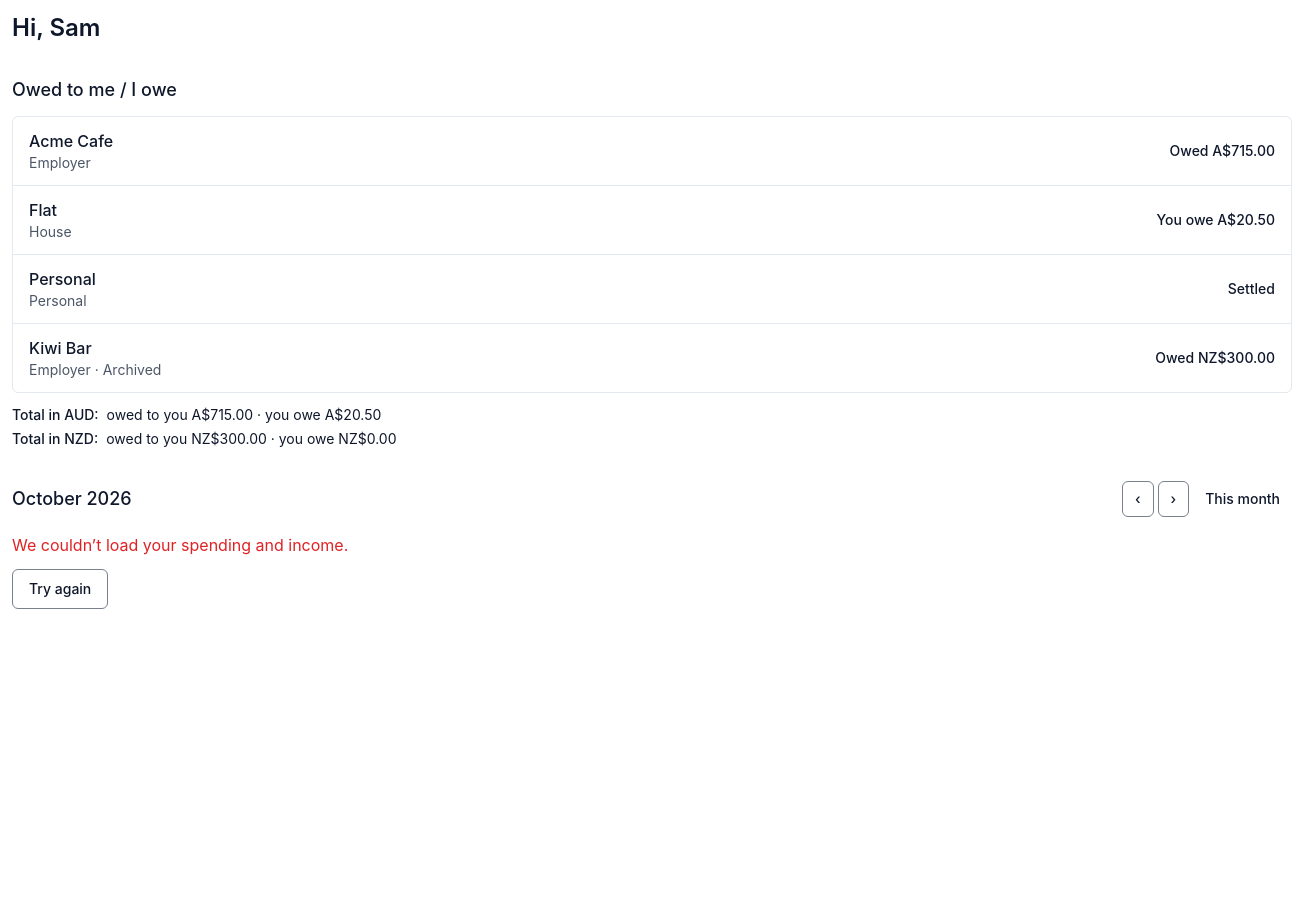
Test: DashboardPage: this month › asks to try again when the shares can’t be read
expect the text "We couldn’t load your spending and income." is shown: met, box [12, 533, 348, 557]
Click the button "Try again" at [60, 589], box [12, 569, 108, 609]
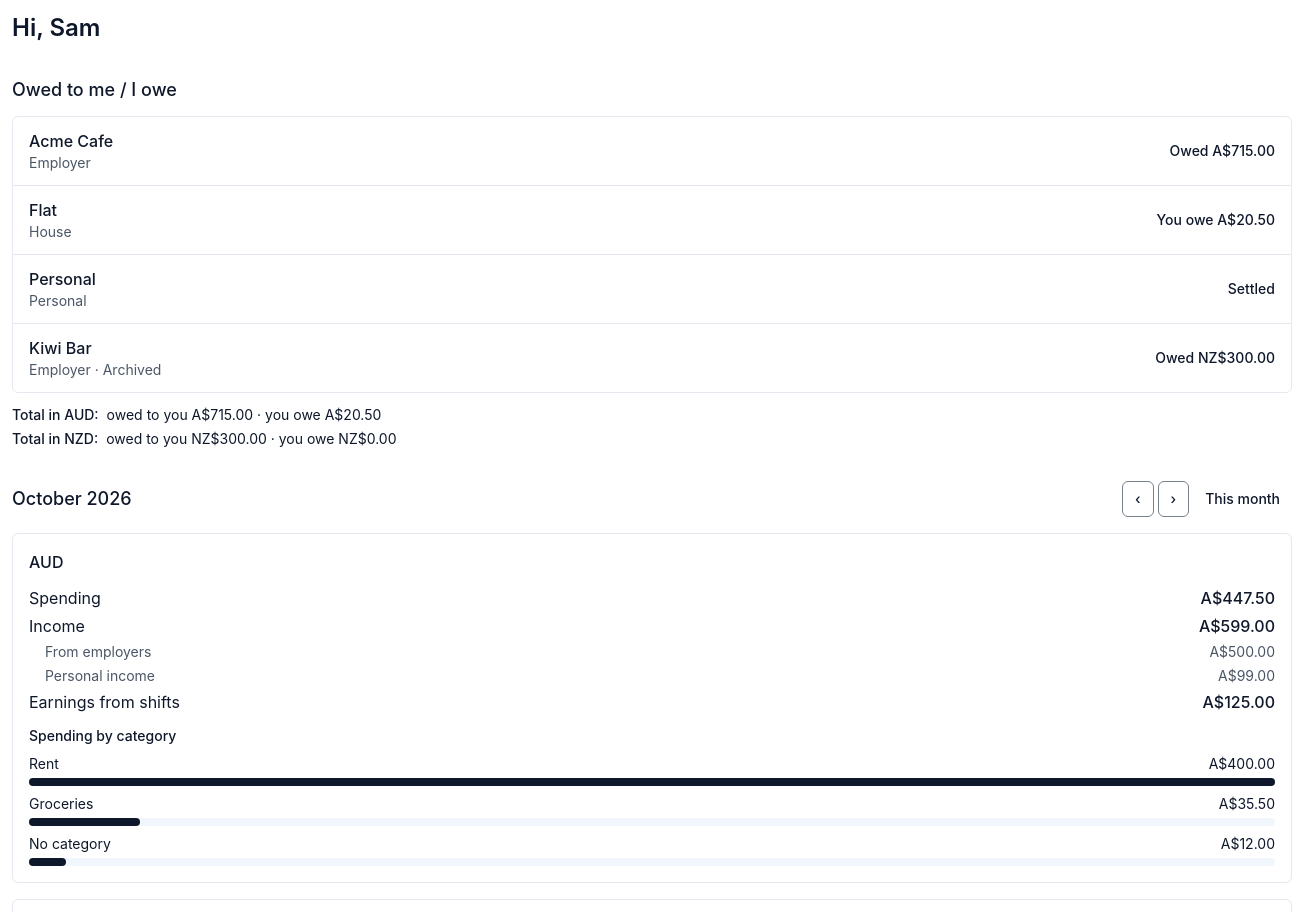
expect the element "AUD" is shown: met, box [12, 533, 1292, 883]
